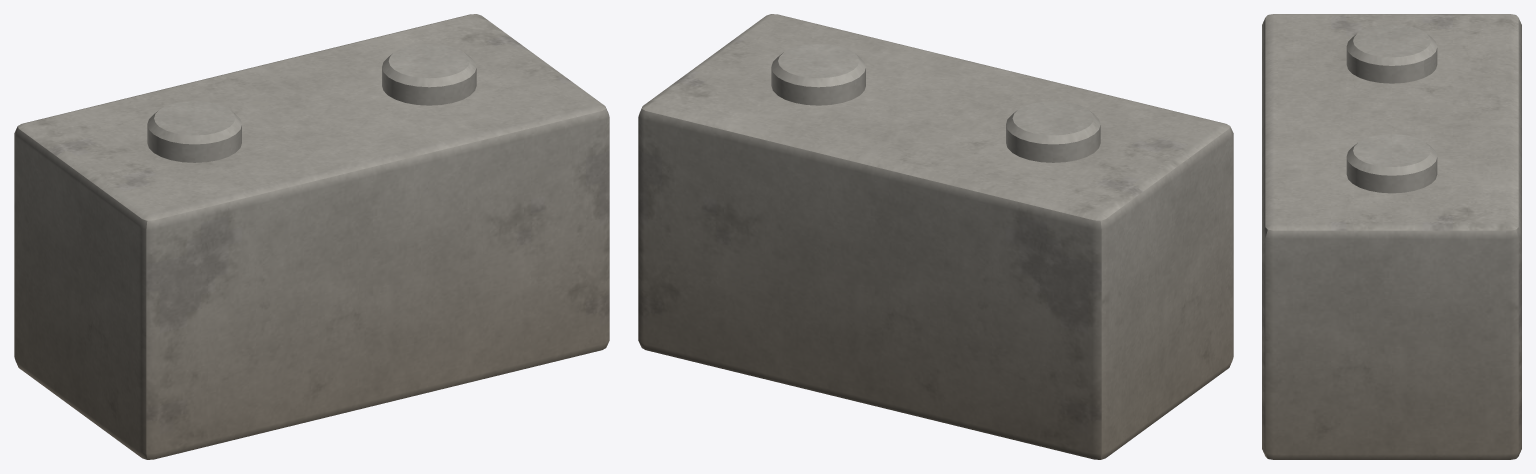
The model's file is prop_block.glb.
The picture shows the model from 3 angles, left to right: view 1: azimuth 30°, elevation 25°; view 2: azimuth 150°, elevation 25°; view 3: azimuth 270°, elevation 25°; orthographic projection. The views are drawn at different scales.
Visible parts, largest first — view 1: BlockBody; view 2: BlockBody; view 3: BlockBody.
Part boxes in pixels (bbox=[...]): BlockBody: bbox=[14, 14, 609, 459]; BlockBody: bbox=[638, 14, 1233, 459]; BlockBody: bbox=[1262, 14, 1521, 459].
Bounding box in the file's own units: 1.6 × 0.88 × 0.8.
Materials: 1 (1 with a texture image).
